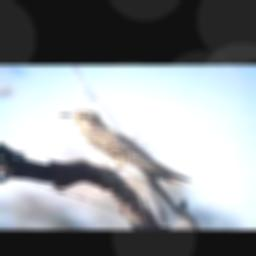Cuckoo: (60, 110, 191, 217)
